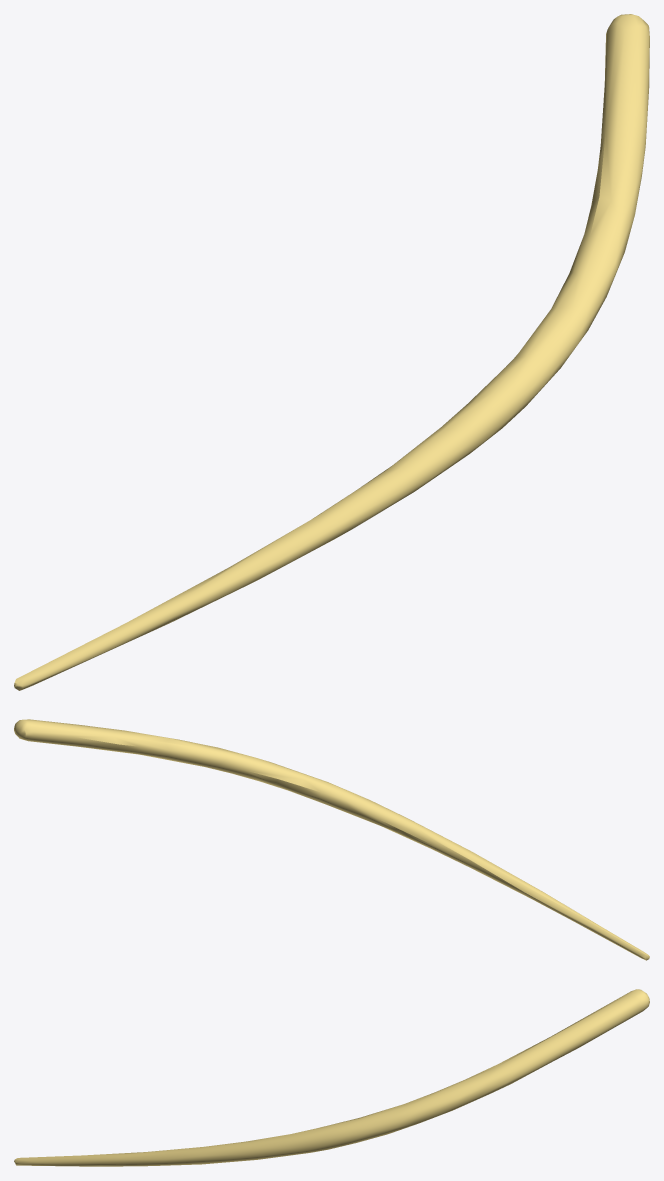
Rendered from fma52729_fj3989.glb.
The picture shows the model from 3 angles, top to bottom: view 1: azimuth 30°, elevation 25°; view 2: azimuth 150°, elevation 25°; view 3: azimuth 330°, elevation 25°; orthographic projection. The views are drawn at different scales.
Parts seen in each view (by area): view 1: FMA52729_FJ3989; view 2: FMA52729_FJ3989; view 3: FMA52729_FJ3989.
Part boxes in pixels (box(x1,y1,x2,y2)): FMA52729_FJ3989: box(14, 14, 649, 690); FMA52729_FJ3989: box(14, 719, 649, 960); FMA52729_FJ3989: box(14, 989, 649, 1166).
Size of the model in its own units: 0.0168 by 0.00648 by 0.00768.
